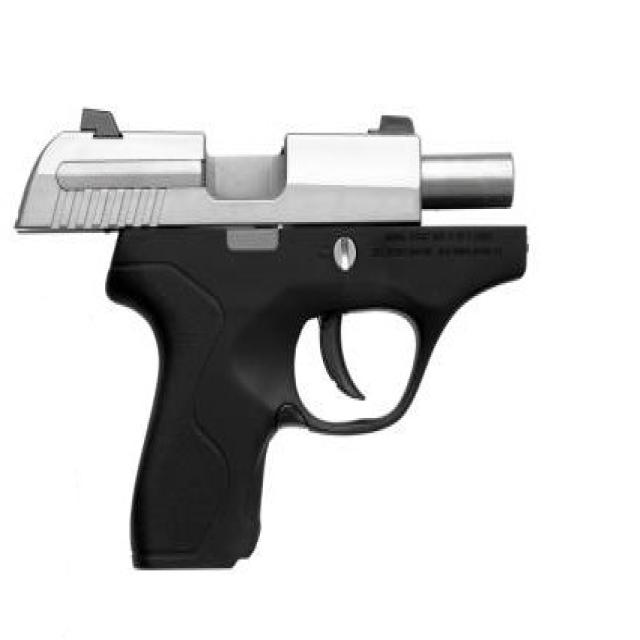pistol: (11, 95, 537, 587)
